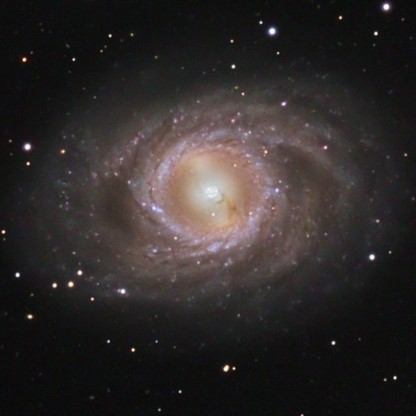Messier 95: (27, 73, 398, 320)
